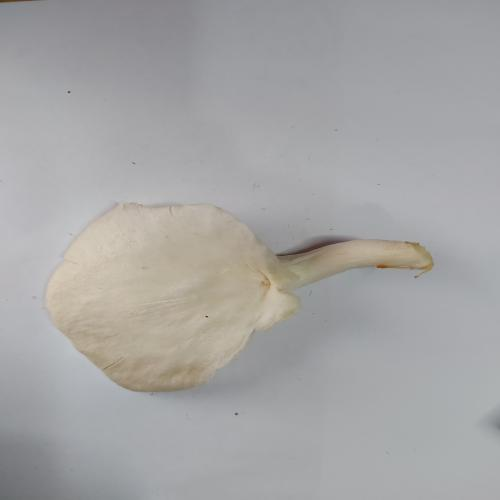Oyster Mushroom: (44, 200, 434, 393)
